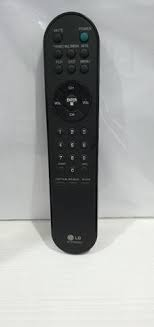remote control: (40, 11, 108, 255)
